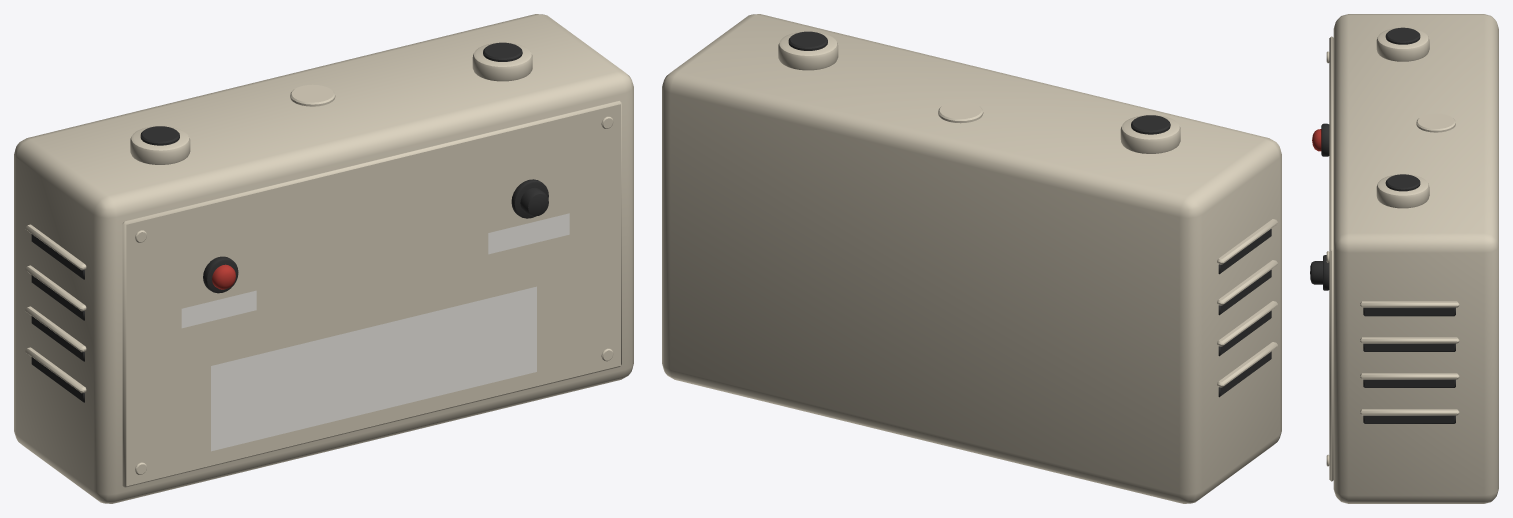
The model's file is Kit_EmergencyTwinHead.fbx.
The picture shows the model from 3 angles, left to right: view 1: azimuth 30°, elevation 25°; view 2: azimuth 150°, elevation 25°; view 3: azimuth 270°, elevation 25°; orthographic projection. The views are drawn at different scales.
Parts seen in each view (by area): view 1: Kit_EmergencyTwinHead; view 2: Kit_EmergencyTwinHead; view 3: Kit_EmergencyTwinHead.
Part boxes in pixels (bbox=[...]): Kit_EmergencyTwinHead: bbox=[14, 14, 633, 503]; Kit_EmergencyTwinHead: bbox=[662, 14, 1281, 503]; Kit_EmergencyTwinHead: bbox=[1310, 14, 1498, 503].
Bounding box in the file's own units: 0.3375 × 0.1918 × 0.1143.
